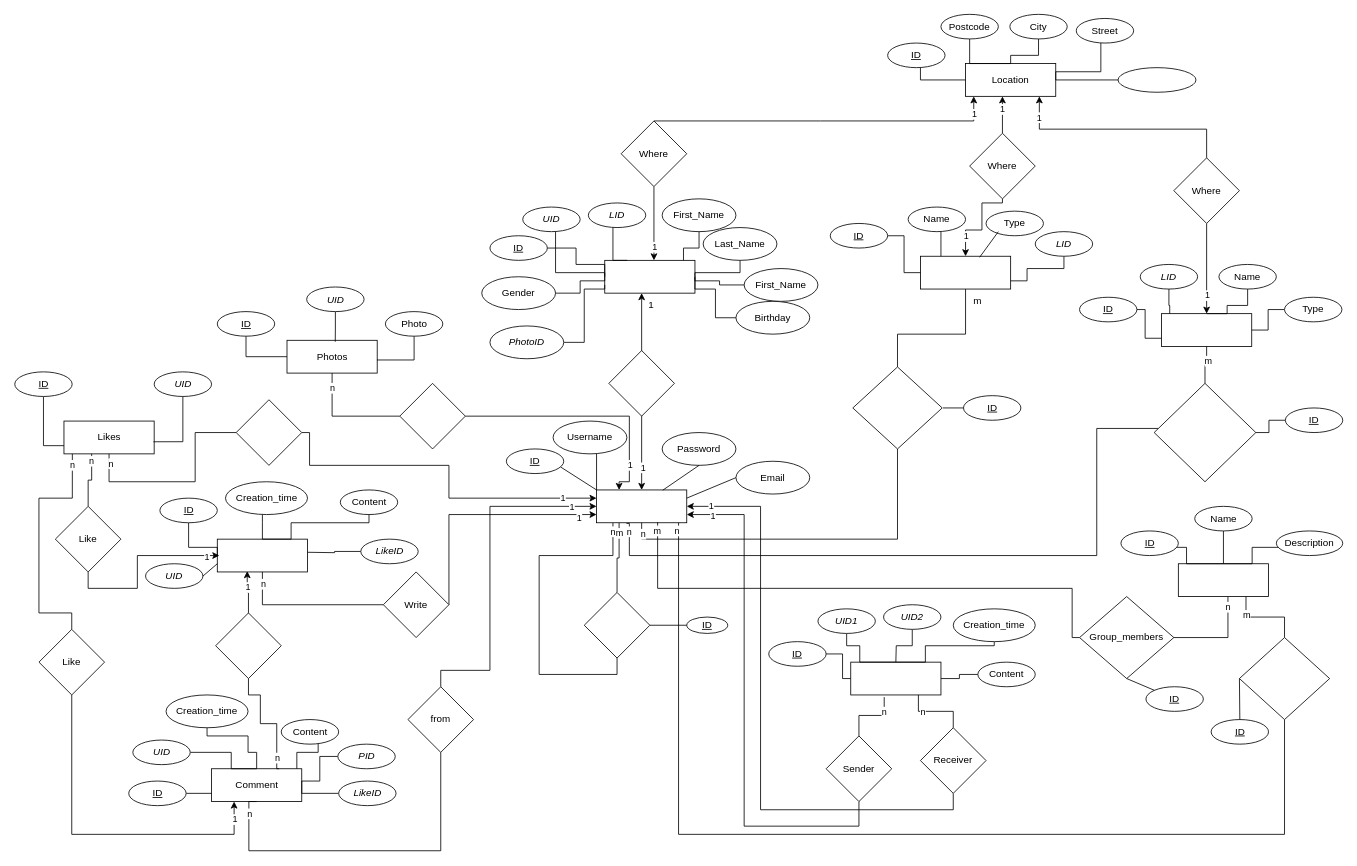
Image size: 1357x866. Some labels were removed from this diagram. Each missing label, with the centre of its shape:
Friends: [616,625]
Give likes: [268,432]
Group: [1223,580]
Group_admins: [1284,678]
House_number: [1156,79]
Include: [641,383]
Message: [895,678]
Post: [262,555]
School: [965,272]
School_User_ Connector: [897,407]
Upload: [432,416]
User: [641,506]
User data: [649,276]
which post: [248,645]
Workplace: [1206,329]
Workplace_User_ Connector: [1204,432]
